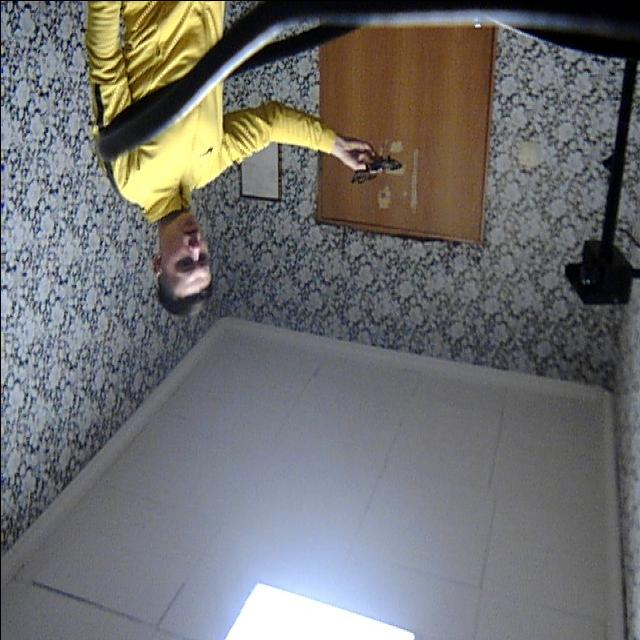drone: (336, 144, 404, 202)
